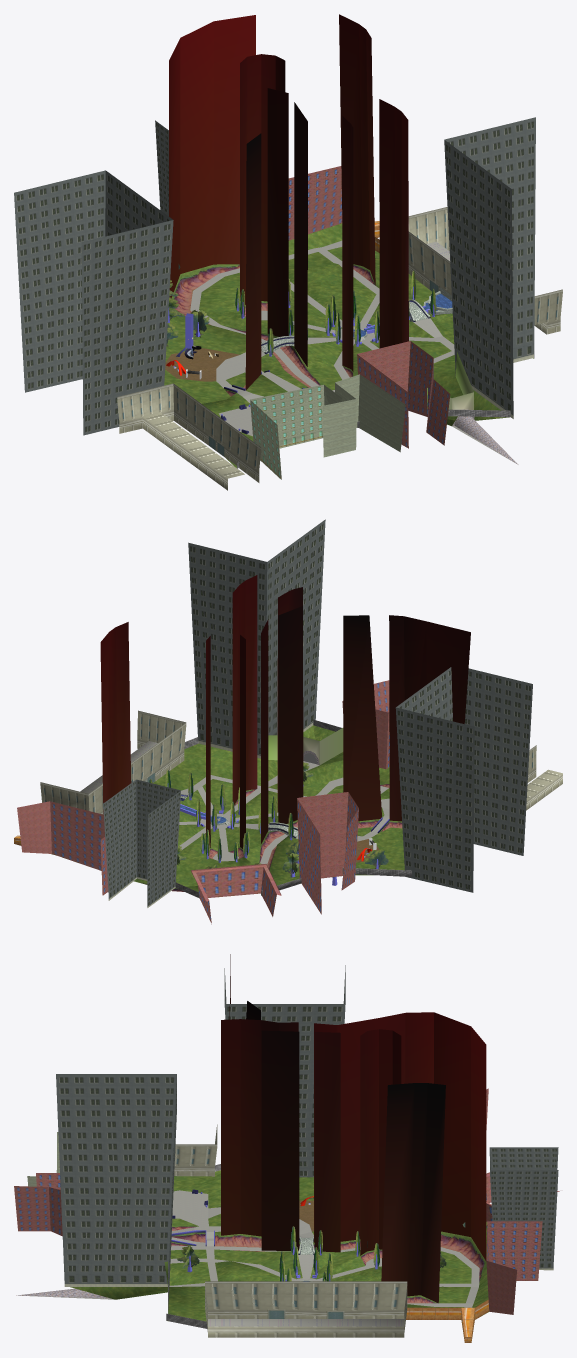
File: CentralPark.FBX
The picture shows the model from 3 angles, top to bottom: view 1: azimuth 30°, elevation 25°; view 2: azimuth 150°, elevation 25°; view 3: azimuth 270°, elevation 25°; orthographic projection. The views are drawn at different scales.
Visible parts, largest first — view 1: Guides, Building02, ground, Building03, Apartment wth Ally02, upper class building02, Lift Building03, upper class building01, Lift Building01, Building01, ExitTunnel; view 2: Guides, Building02, Building03, ground, Building01, Lift Building02, Lift Building01, upper class building01, Object08, Lift Building03, upper class building02, TreeGroup06 (+1 smaller); view 3: Guides, Building03, ground, upper class building01, Building01, Building02, Lift Building01, Lift Building03, upper class building02, Park_Exit.
Part boxes in pixels (left/top/right/bottom): Guides: left=169, top=14, right=408, bottom=390; Building02: left=14, top=170, right=173, bottom=435; ground: left=164, top=223, right=534, bottom=468; Building03: left=444, top=117, right=535, bottom=418; Apartment wth Ally02: left=250, top=374, right=405, bottom=479; upper class building02: left=117, top=383, right=261, bottom=490; Lift Building03: left=357, top=341, right=450, bottom=448; upper class building01: left=408, top=207, right=562, bottom=334; Lift Building01: left=288, top=166, right=342, bottom=240; Building01: left=155, top=120, right=168, bottom=216; ExitTunnel: left=452, top=409, right=518, bottom=464; Guides: left=100, top=575, right=470, bottom=848; Building02: left=395, top=667, right=532, bottom=892; Building03: left=188, top=519, right=325, bottom=758; ground: left=134, top=719, right=411, bottom=895; Building01: left=103, top=779, right=181, bottom=907; Lift Building02: left=297, top=792, right=358, bottom=914; Lift Building01: left=17, top=801, right=108, bottom=895; upper class building01: left=40, top=710, right=186, bottom=814; Object08: left=191, top=864, right=281, bottom=924; Lift Building03: left=342, top=680, right=389, bottom=769; upper class building02: left=526, top=745, right=562, bottom=810; TreeGroup06: left=200, top=824, right=249, bottom=861; Guides: left=221, top=954, right=486, bottom=1303; Building03: left=56, top=1074, right=176, bottom=1313; ground: left=22, top=1164, right=489, bottom=1328; upper class building01: left=205, top=1281, right=407, bottom=1337; Building01: left=489, top=1147, right=558, bottom=1270; Building02: left=224, top=965, right=345, bottom=1177; Lift Building01: left=486, top=1221, right=542, bottom=1314; Lift Building03: left=14, top=1173, right=62, bottom=1236; upper class building02: left=174, top=1124, right=217, bottom=1176; Park_Exit: left=404, top=1299, right=489, bottom=1342.
Bounding box in the file's own units: 35922 × 19329 × 40694.
